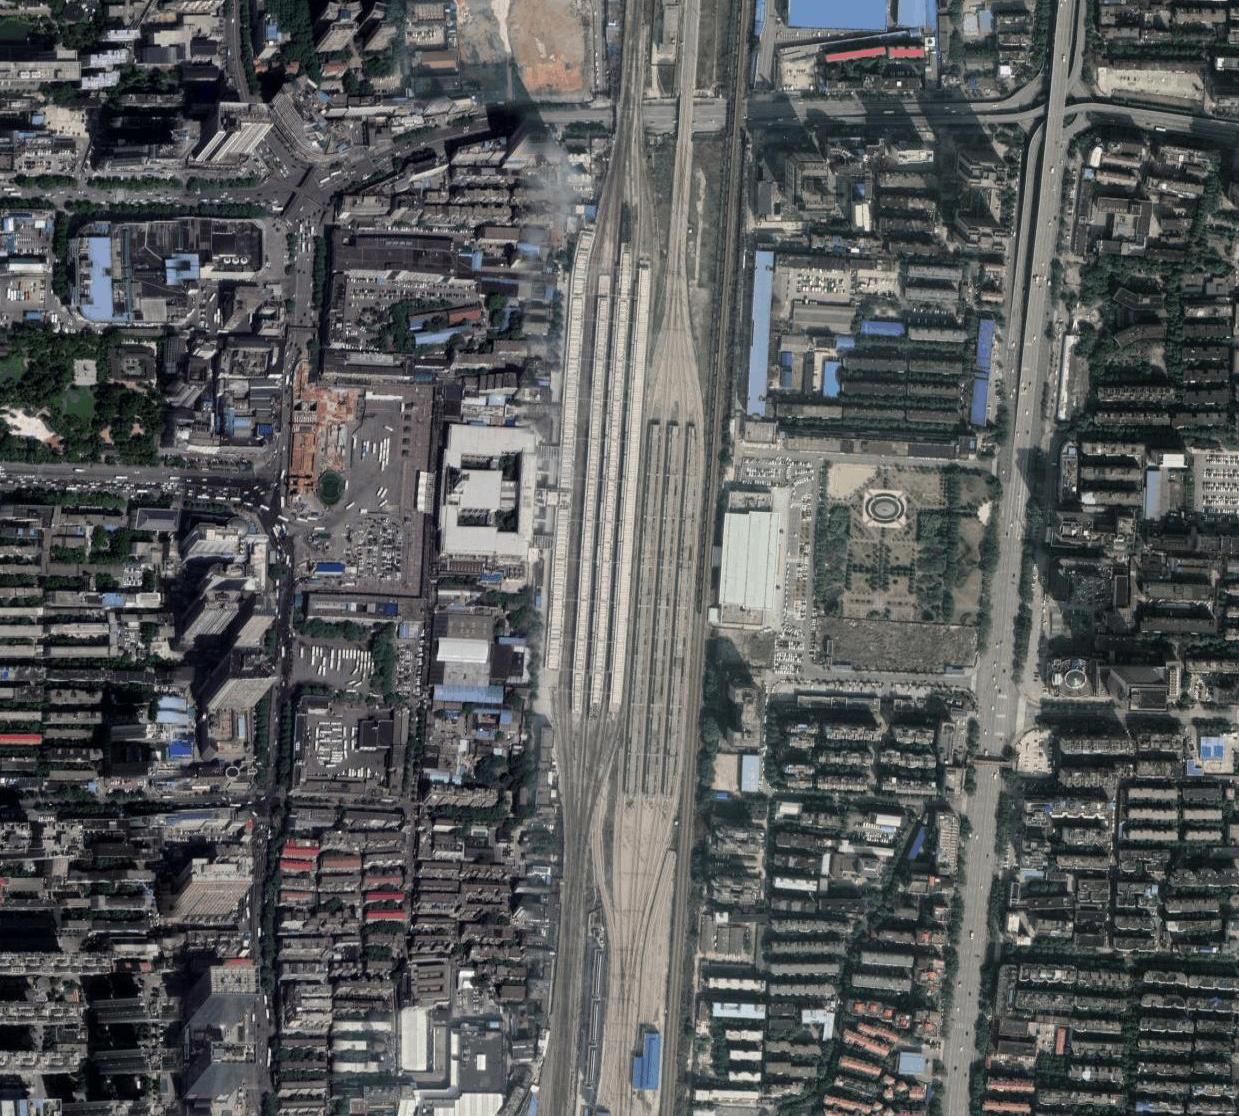train_station: (563, 280, 707, 883)
